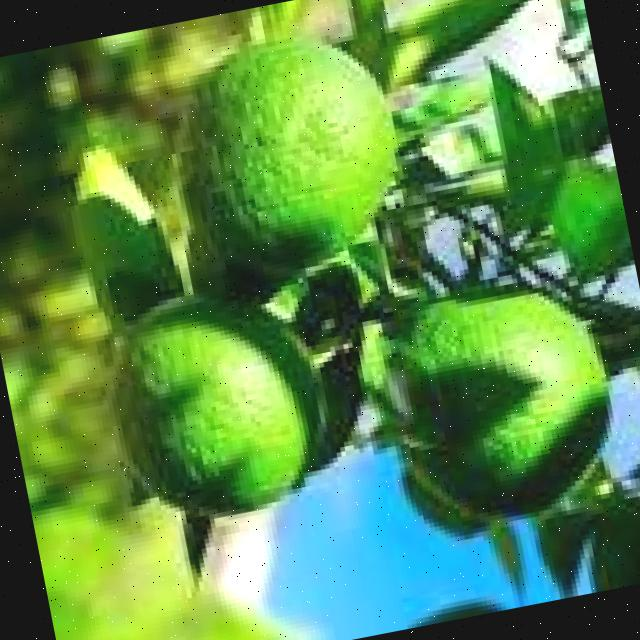Unripe: (365, 257, 632, 540), (169, 13, 419, 286), (94, 270, 343, 532)
